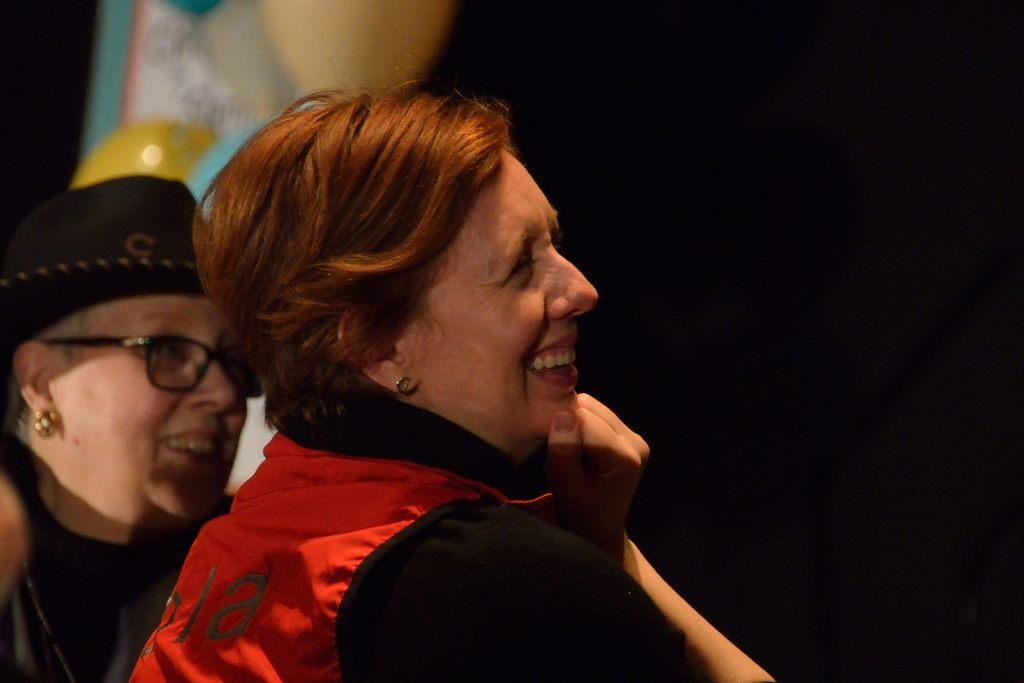Hat: (0, 169, 220, 331)
